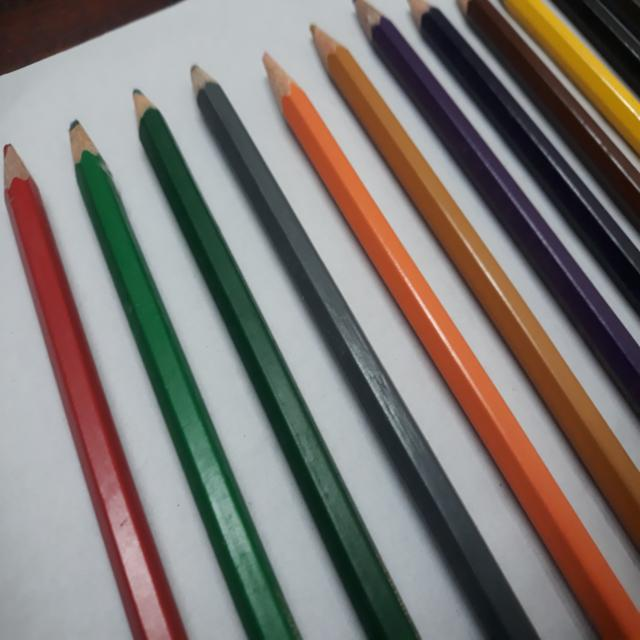pencil: (236, 24, 640, 636), (167, 33, 557, 640), (293, 0, 640, 563), (113, 62, 435, 640), (52, 96, 316, 640), (340, 0, 640, 425), (1, 113, 205, 640), (397, 3, 640, 316), (446, 1, 640, 238), (497, 2, 639, 155), (549, 1, 640, 96)
